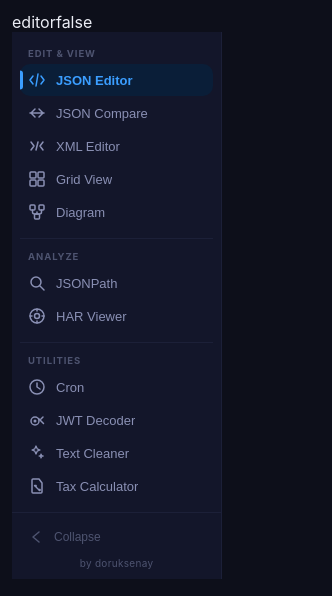
Test: Sidebar › collapses and expands, hiding the labels while collapsed
Expected: the text "JSON Editor" is shown, [56,72,133,88]
What coordinates should you click on to do the following:
click the button with aria-label "Collapse sidebar"
I would click on:
 (116, 537)
Its box is [20,521,213,553].
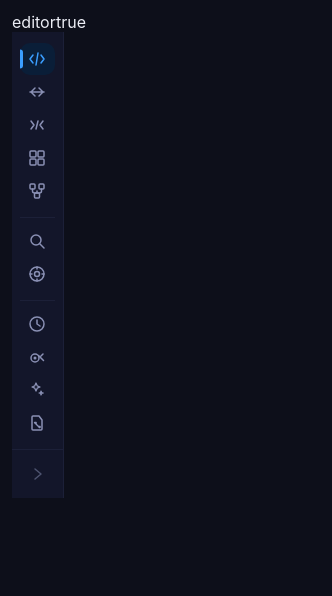
Expected: the text with test id "collapsed" reads "true", [56,12,86,32]
Expected: the text "JSON Editor" is gone
Expected: the text "by doruksenay" is gone
What coordinates should you click on to do the following:
click the button named "Expand sidebar"
I would click on:
 (38, 474)
Its box is [20,458,55,490].
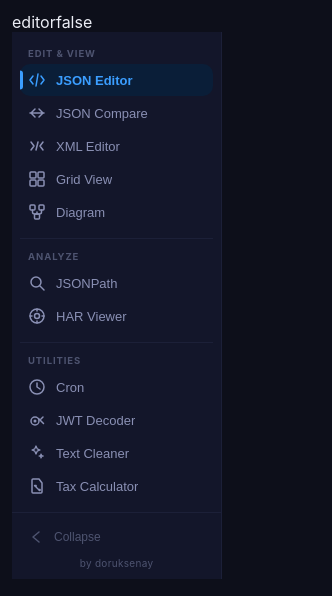
Expected: the text with test id "collapsed" reads "false", [56,12,92,32]
Expected: the text "JSON Editor" is shown, [56,72,133,88]
